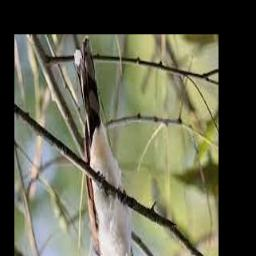Cuckoo: (73, 35, 148, 256)
